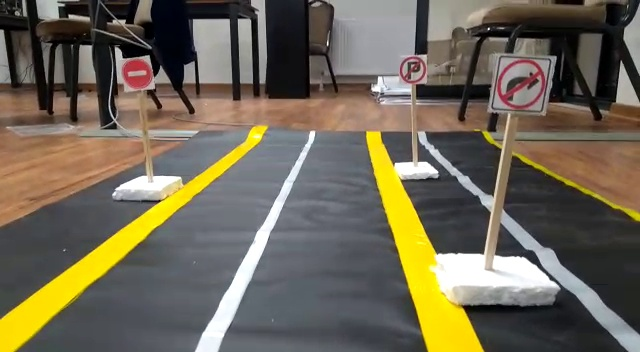girisi_olmayan_yol: (119, 58, 154, 89)
park_yapilmaz: (398, 53, 428, 84)
saga_donulmez: (496, 52, 551, 113)
